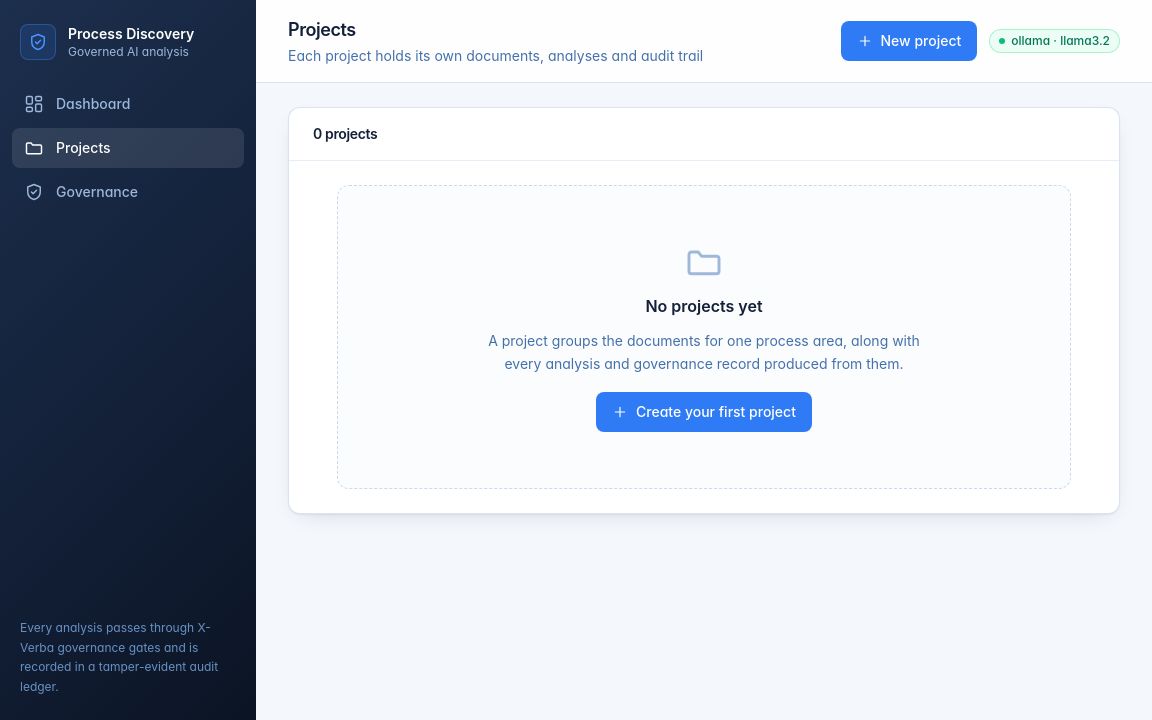
Test case: Projects › surfaces an API rejection inside the dialog
This screenshot has width=1152, height=720.
Click the button "New project" at [909, 41], box x1=840 y1=21 x2=977 y2=61
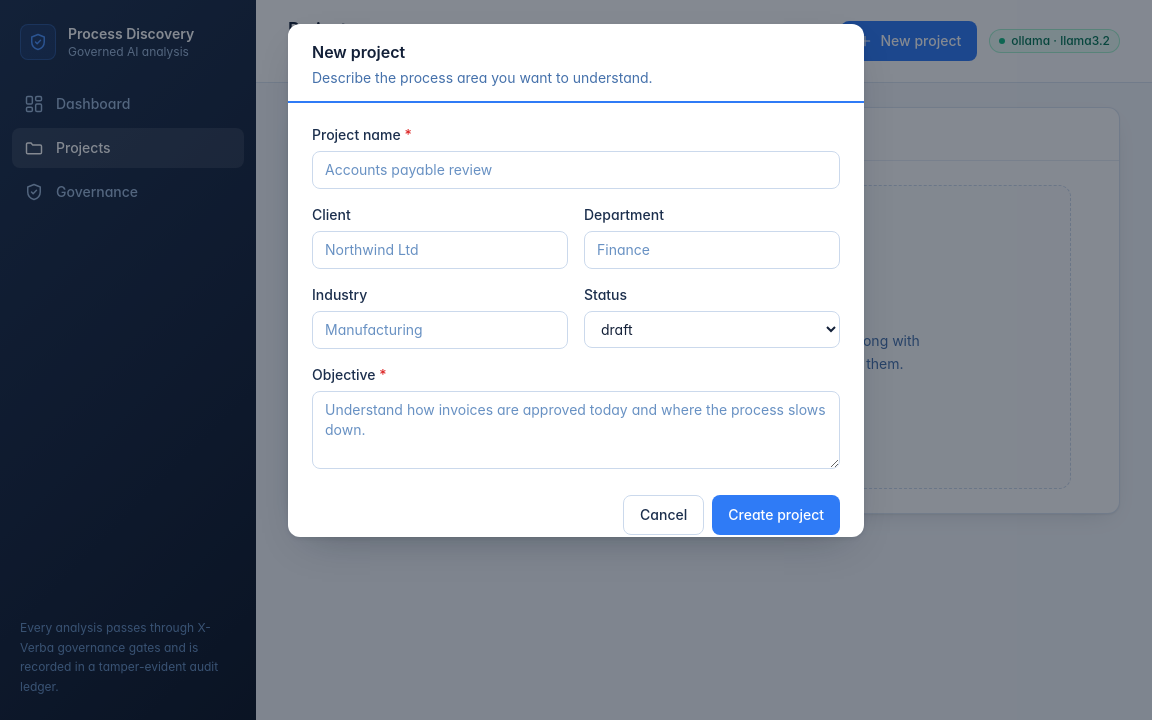
Type "Order to cash" into the field labelled "Project name *" at [576, 170], box x1=312 y1=151 x2=840 y2=189
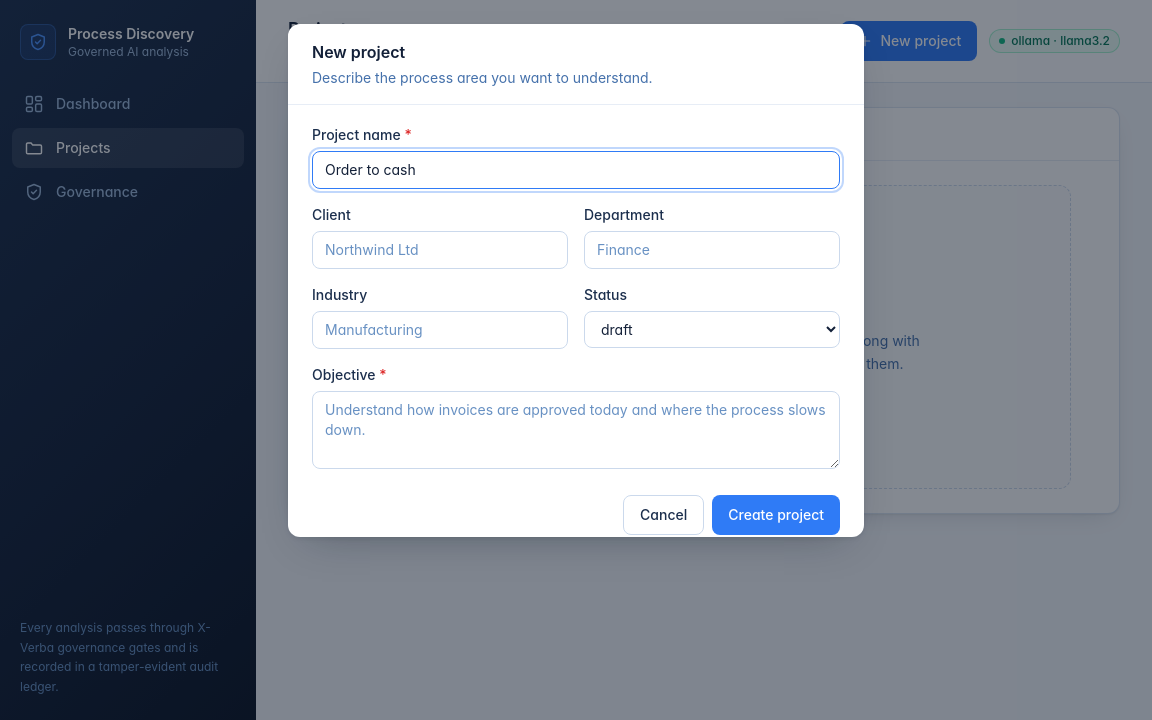
Type "Map order to cash." into the text box labelled "Objective *" at [576, 430], box x1=312 y1=391 x2=840 y2=469
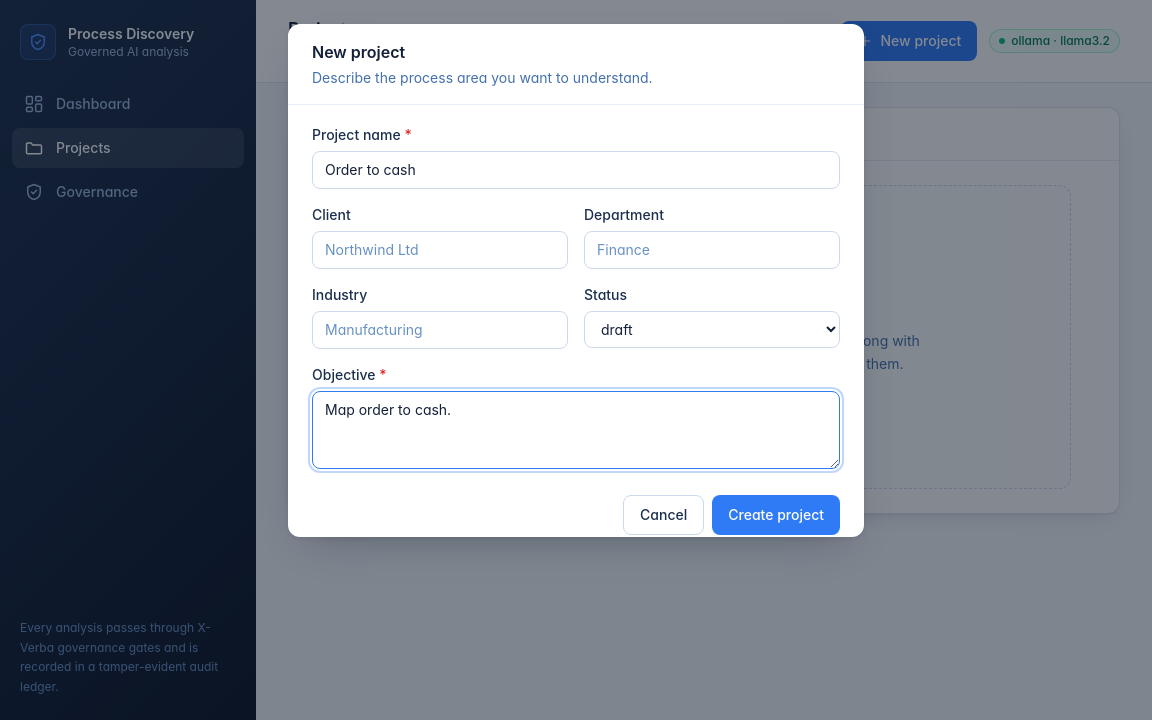
Click the button "Create project" at [776, 515], box x1=712 y1=495 x2=840 y2=535
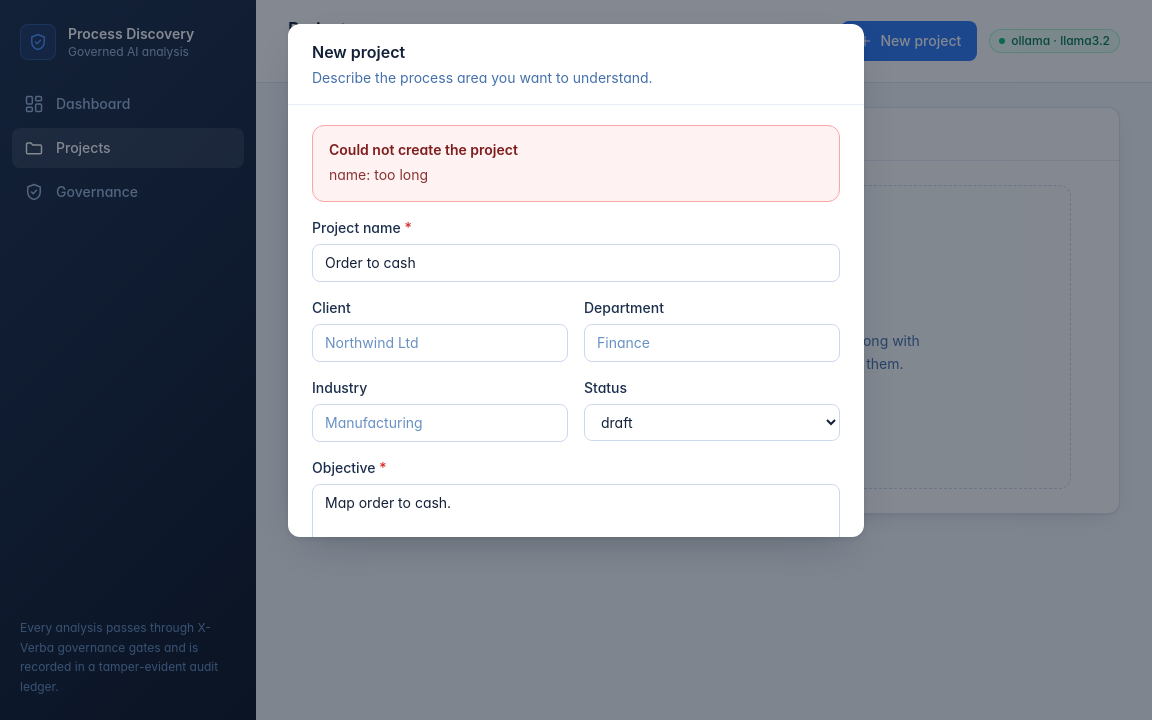
Check: the text "Could not create the project" is shown, box x1=329 y1=140 x2=518 y2=160
Check: the text "name: too long" is shown, box x1=329 y1=166 x2=428 y2=183
